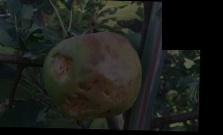rotten apple: (44, 29, 142, 123)
